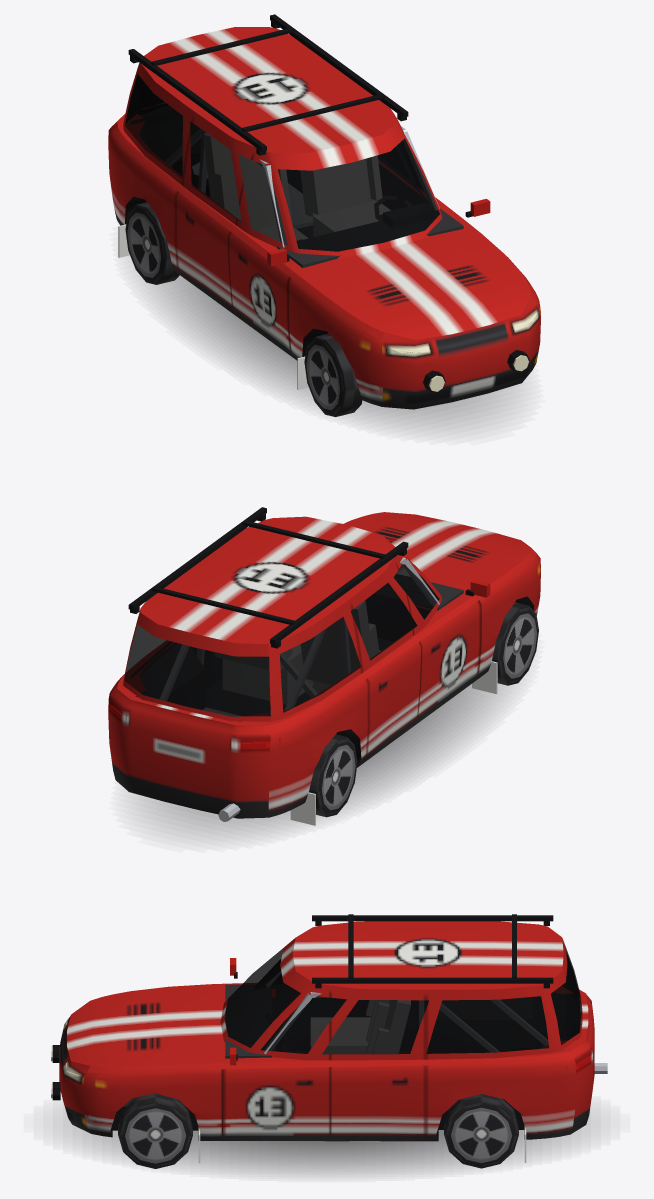
File: pipoca.glb
3 views of the same model, one above another, from view 1: azimuth 30°, elevation 25°; view 2: azimuth 150°, elevation 25°; view 3: azimuth 270°, elevation 25° (orthographic). The views are drawn at different scales.
Visible parts, largest first — view 1: Carroceria, Interior, Capo_malha, Sombra, Porta_TD_malha, Porta_D_malha, Roda_DD, Roda_TD, Tampa_malha; view 2: Carroceria, Tampa_malha, Interior, Sombra, Porta_TD_malha, Capo_malha, Porta_D_malha, Roda_DD, Roda_TD; view 3: Carroceria, Interior, Porta_TE_malha, Sombra, Porta_E_malha, Capo_malha, Roda_DE, Roda_TE, Tampa_malha.
Part boxes in pixels (x1,y1,x2,y2): Carroceria: [108, 14, 540, 409]; Interior: [130, 106, 463, 333]; Capo_malha: [309, 236, 536, 339]; Sombra: [146, 276, 519, 430]; Porta_TD_malha: [175, 111, 255, 304]; Porta_D_malha: [228, 148, 293, 348]; Roda_DD: [304, 333, 362, 416]; Roda_TD: [125, 202, 179, 284]; Tampa_malha: [126, 75, 167, 121]; Carroceria: [108, 507, 540, 825]; Tampa_malha: [123, 613, 270, 796]; Interior: [131, 557, 463, 715]; Sombra: [137, 684, 508, 837]; Porta_TD_malha: [350, 558, 421, 753]; Capo_malha: [345, 512, 536, 585]; Porta_D_malha: [394, 555, 490, 714]; Roda_DD: [492, 602, 538, 685]; Roda_TD: [309, 734, 357, 817]; Carroceria: [51, 914, 607, 1163]; Interior: [123, 967, 579, 1106]; Porta_TE_malha: [330, 985, 425, 1133]; Sombra: [63, 1111, 590, 1174]; Porta_E_malha: [223, 984, 330, 1133]; Capo_malha: [72, 986, 207, 1072]; Roda_DE: [118, 1093, 192, 1168]; Roda_TE: [444, 1094, 518, 1168]; Tampa_malha: [549, 938, 594, 1086].
Size of the model in its own units: 2.26 by 1.54 by 4.84.
14 materials, 5 textured.
